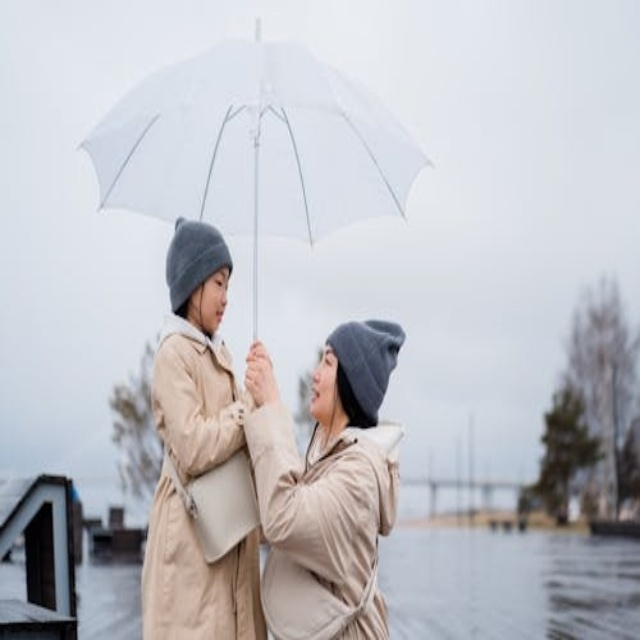Sin_gafas: (209, 267, 233, 294), (320, 344, 335, 377)
Sin_mascara: (308, 384, 324, 409), (209, 309, 228, 329)
